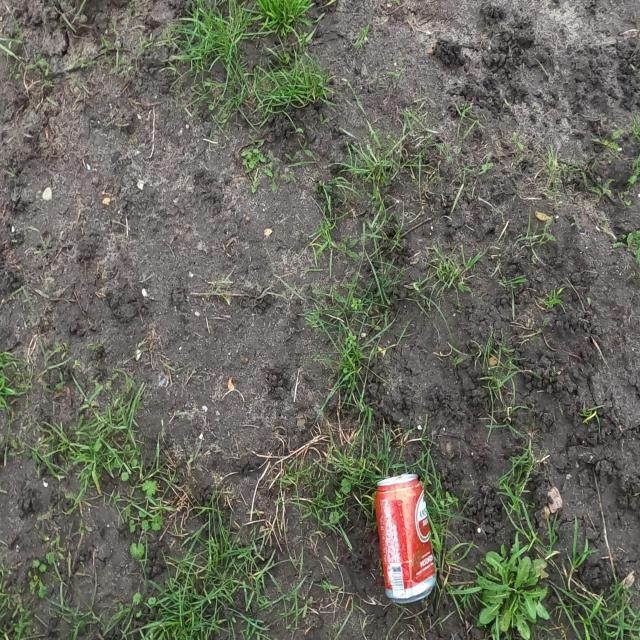Can-Metal: (372, 471, 438, 607)
